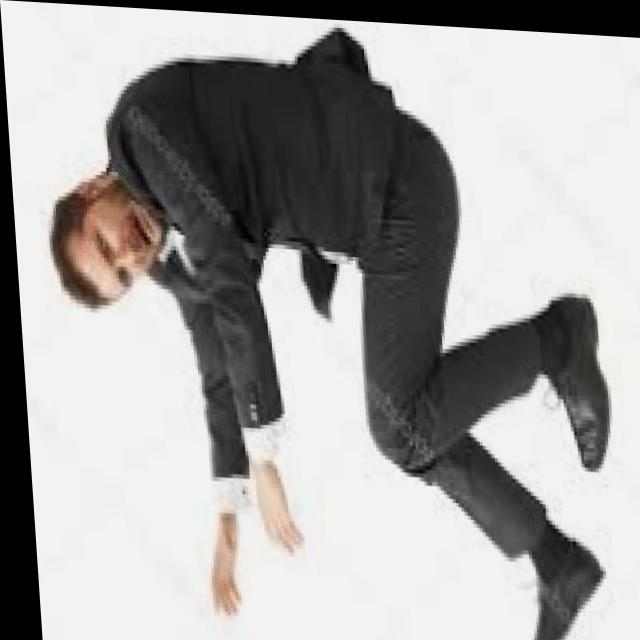fall: (27, 15, 621, 640)
